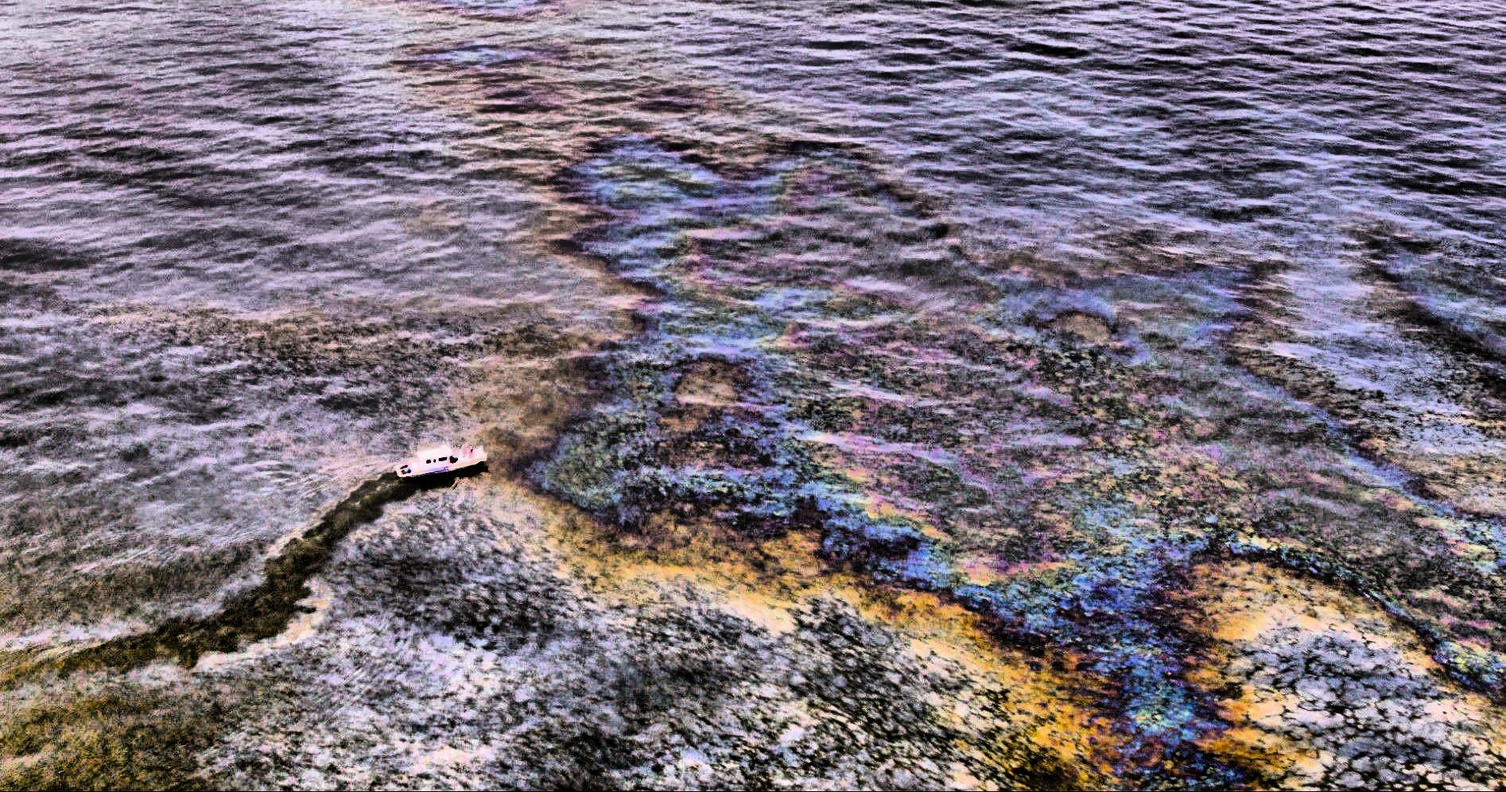rainbow: (529, 135, 1506, 785)
truecolor: (0, 473, 412, 685)
